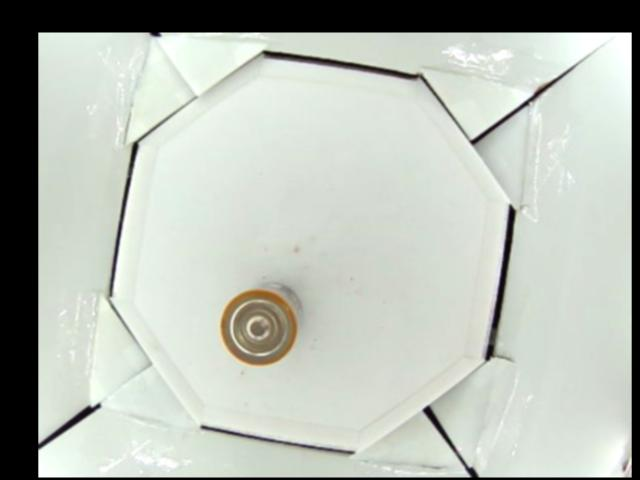Battery: (220, 284, 302, 361)
